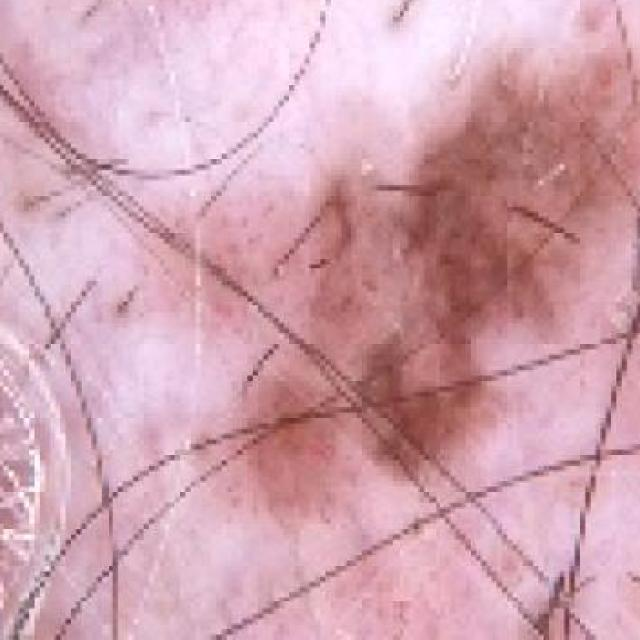AKIEC: (183, 0, 640, 614)
